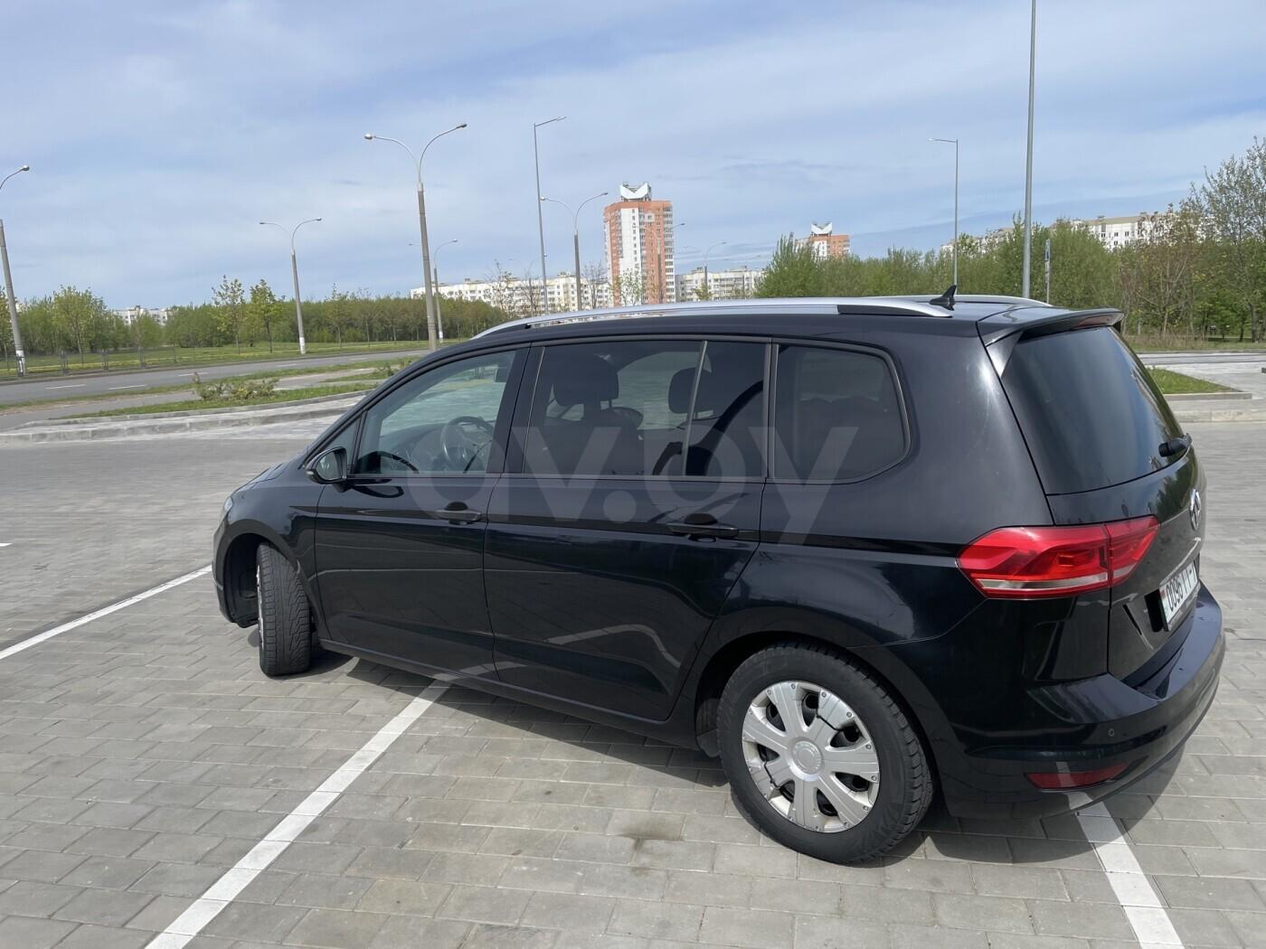Touran_2015: (198, 298, 1229, 865)
